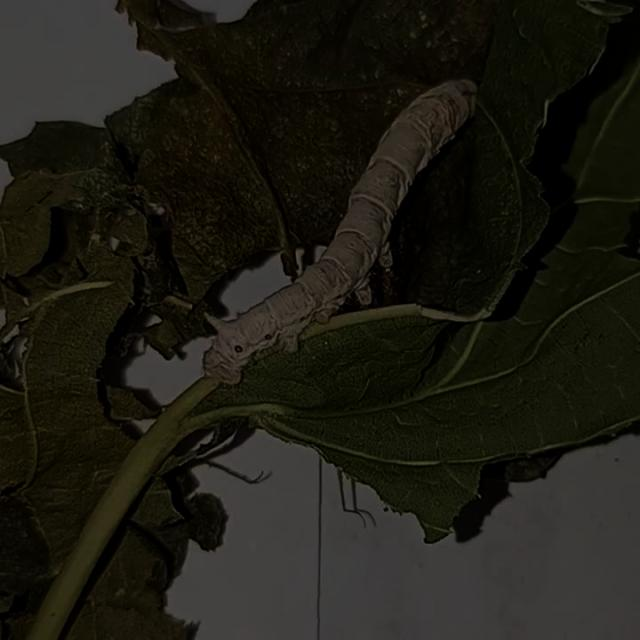Healthy: (166, 38, 525, 432)
